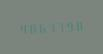eight: (77, 18, 86, 32)
four: (17, 21, 26, 35)
nine: (67, 19, 76, 32)
seven: (57, 19, 66, 33), (47, 20, 56, 33)
six: (37, 20, 46, 34)
zero: (27, 21, 36, 34)
